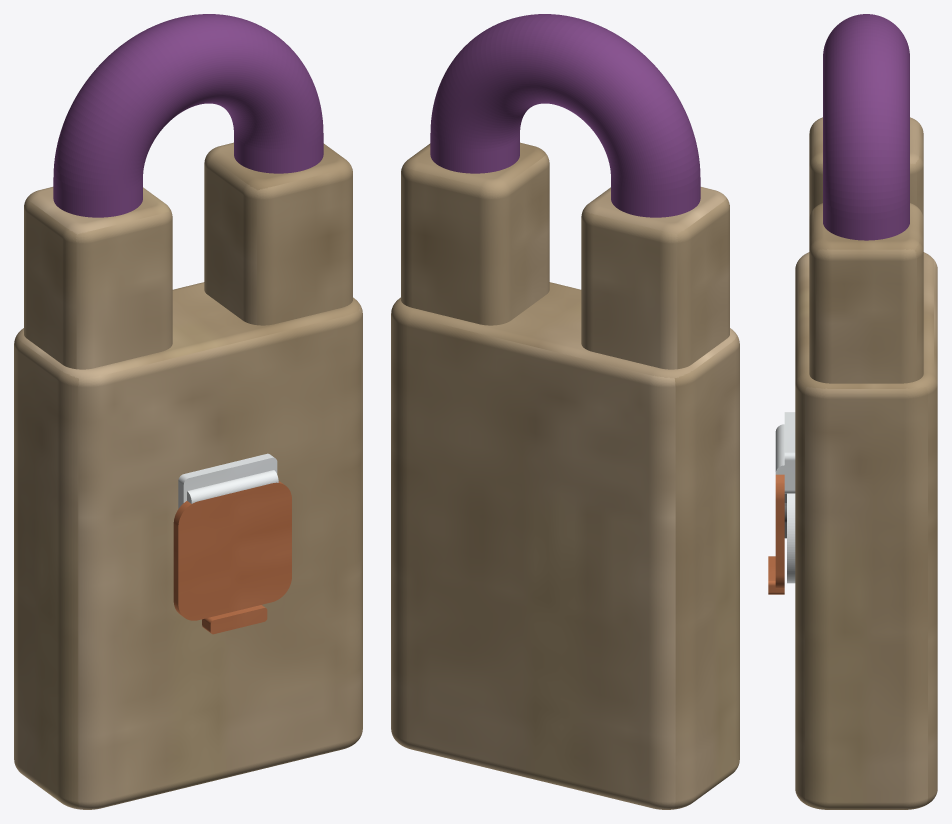
File: Equipment_Lock__0002.glb
3 views of the same model, side by side, from view 1: azimuth 30°, elevation 25°; view 2: azimuth 150°, elevation 25°; view 3: azimuth 270°, elevation 25° (orthographic). The views are drawn at different scales.
Parts seen in each view (by area): view 1: body::body_shell, shackle::shackle_bar, dust_cover::cover_flap, body::hinge_bracket; view 2: body::body_shell, shackle::shackle_bar; view 3: body::body_shell, shackle::shackle_bar, dust_cover::cover_flap, body::hinge_bracket, body::keyway_disc.
Boxes of the visible parts, box(x1,y1,x2,y2) form: body::body_shell: box(14, 142, 362, 809); shackle::shackle_bar: box(53, 14, 323, 217); dust_cover::cover_flap: box(173, 481, 291, 634); body::hinge_bracket: box(178, 453, 278, 508); body::body_shell: box(391, 142, 739, 809); shackle::shackle_bar: box(430, 14, 700, 217); body::body_shell: box(795, 117, 937, 809); shackle::shackle_bar: box(823, 14, 909, 240); dust_cover::cover_flap: box(768, 474, 784, 594); body::hinge_bracket: box(775, 412, 795, 493); body::keyway_disc: box(787, 493, 795, 583).
Size of the model in its own units: 0.045 by 0.1052 by 0.0226.
Materials: 5 (4 with a texture image).
